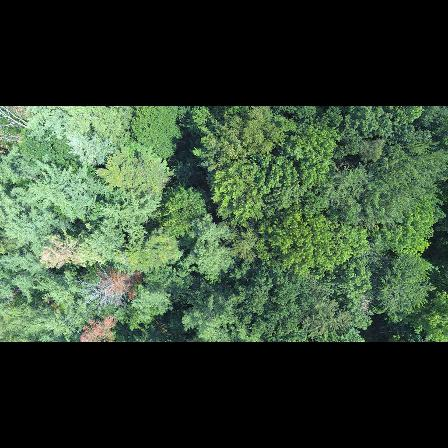Dead: (77, 261, 135, 310)
